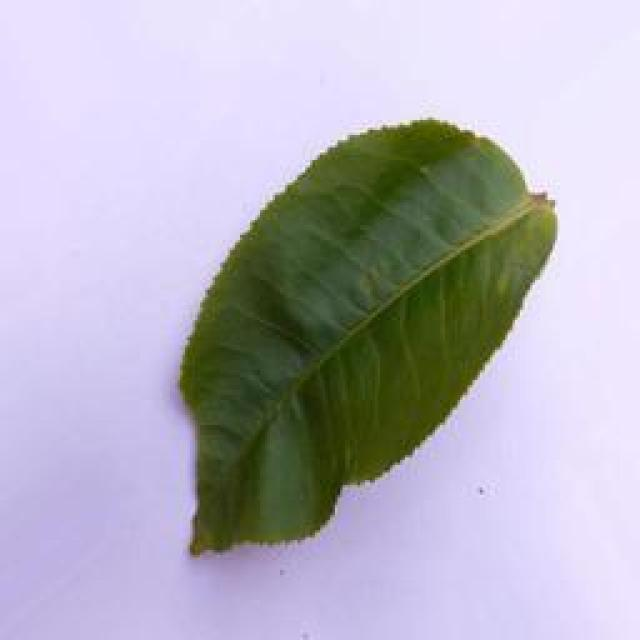Healthy: (164, 110, 565, 556)
